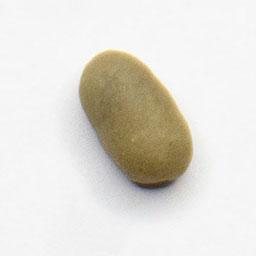peaberry: (75, 45, 197, 192)
